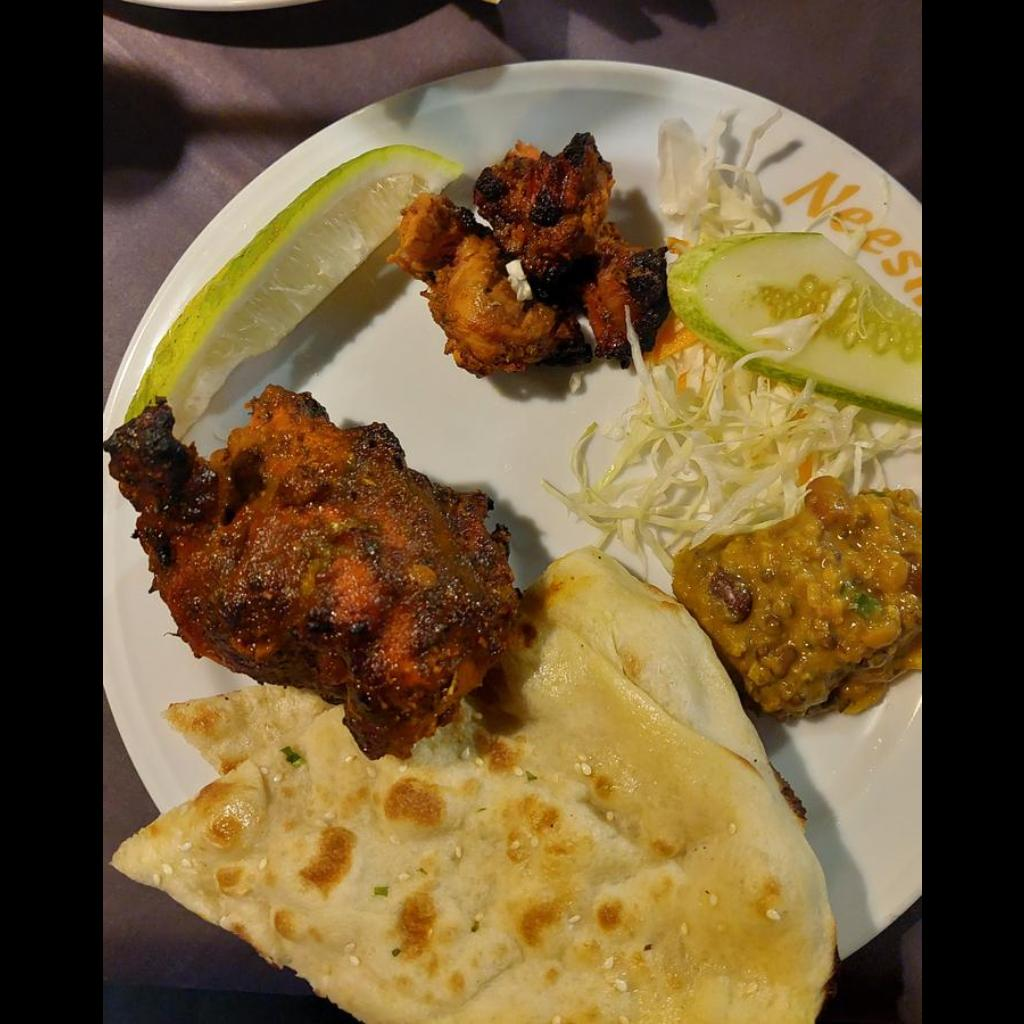chicken: (108, 137, 658, 760)
daal: (672, 484, 920, 722)
lemon: (131, 143, 464, 425)
ruti: (118, 546, 838, 1023)
salad: (561, 220, 920, 545)
